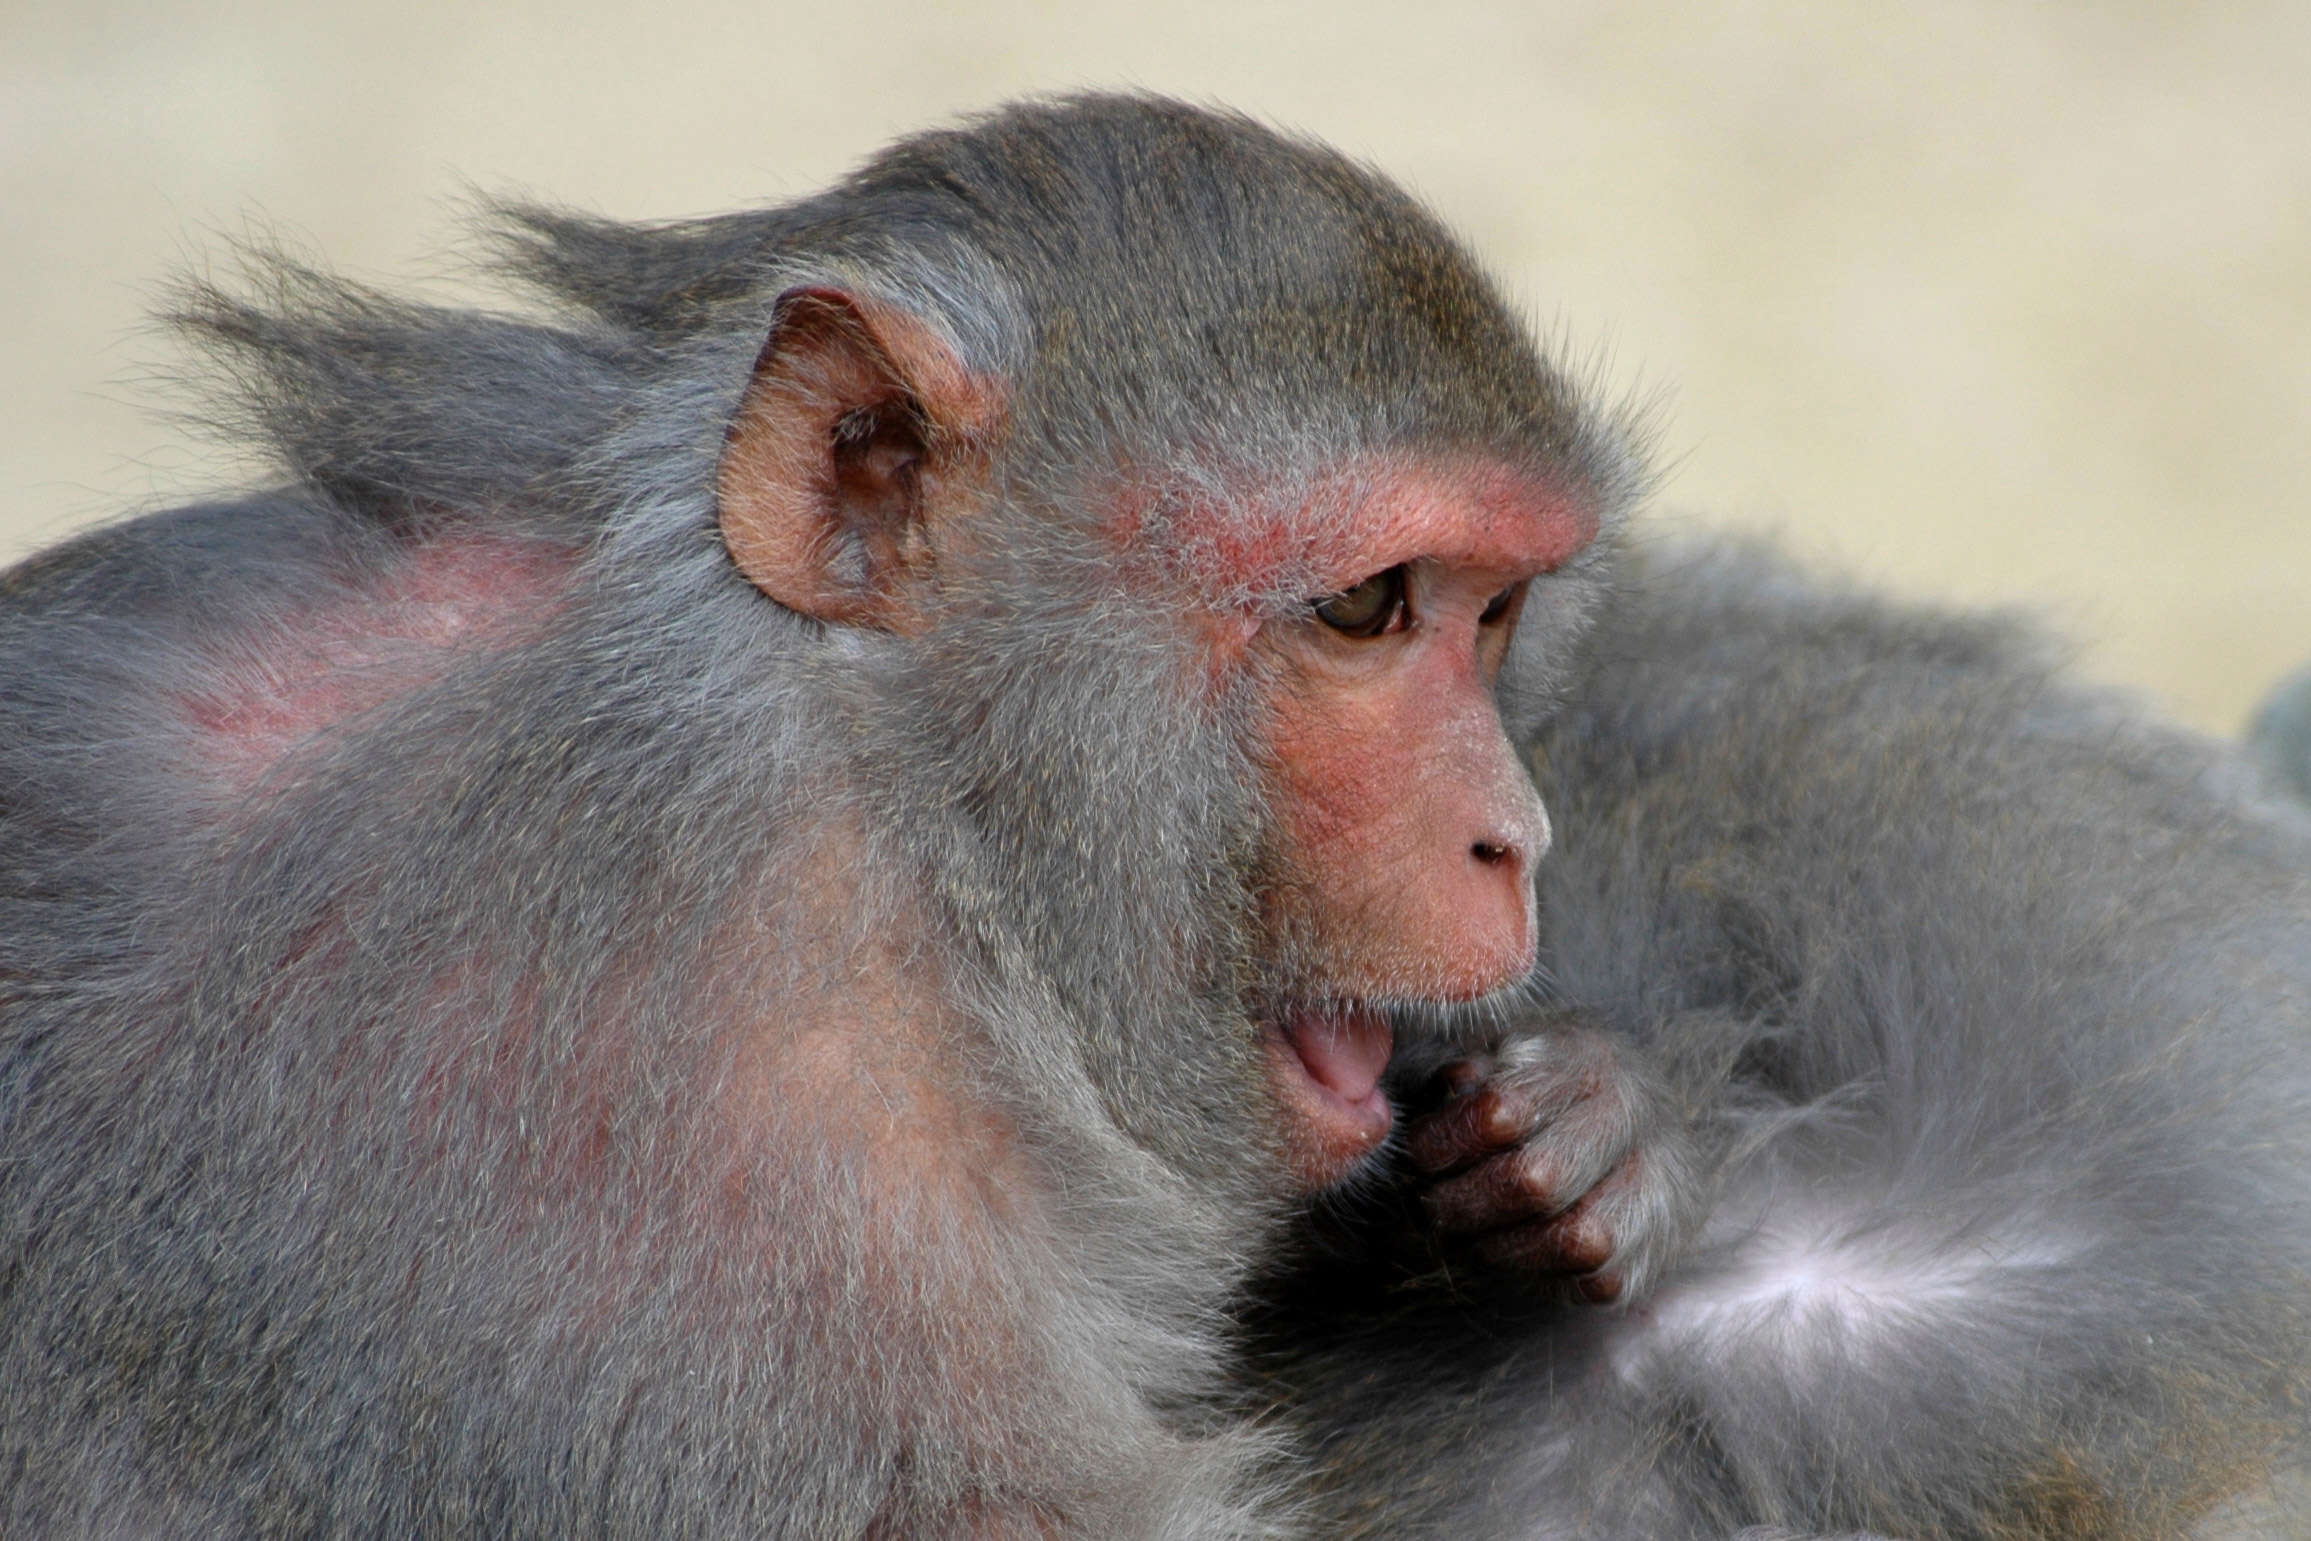monkey: (2, 43, 1647, 1541)
